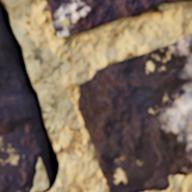brick: (77, 34, 191, 191), (0, 14, 42, 191), (44, 0, 191, 38)
crack: (0, 0, 59, 190)
